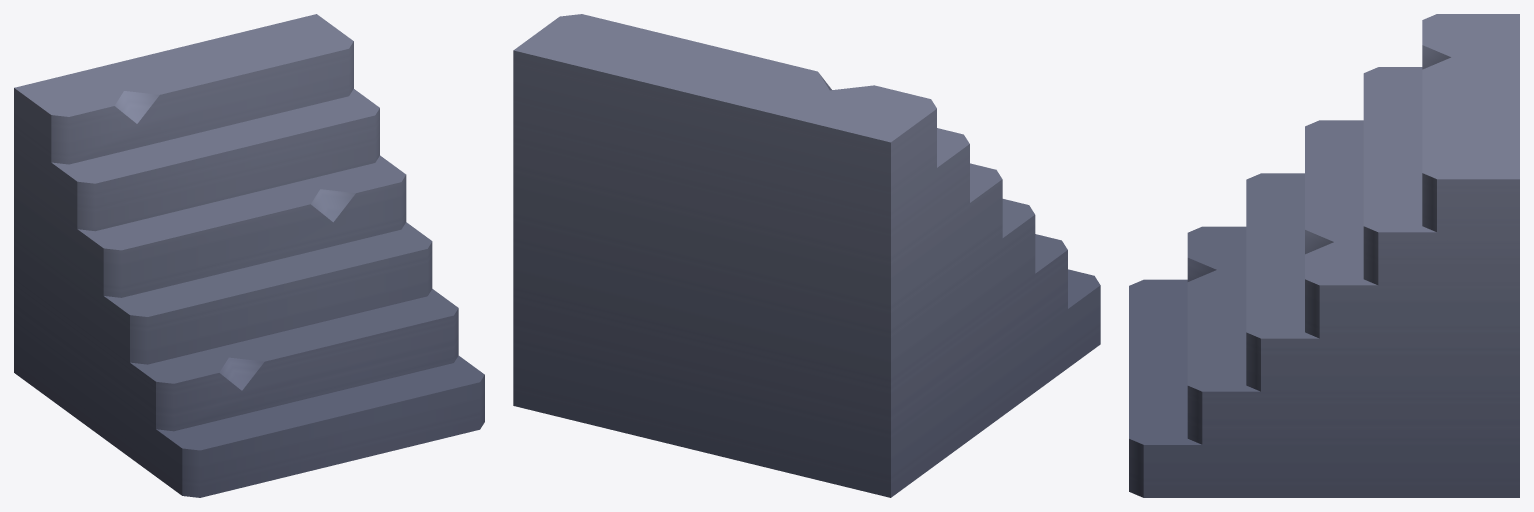
File: stairs.fbx
3 renders of one model, left to right at view 1: azimuth 30°, elevation 25°; view 2: azimuth 150°, elevation 25°; view 3: azimuth 270°, elevation 25°, orthographic. The views are drawn at different scales.
Parts seen in each view (by area): view 1: stairs; view 2: stairs; view 3: stairs.
Part boxes in pixels (bbox=[...]): stairs: bbox=[14, 14, 484, 497]; stairs: bbox=[513, 14, 1100, 497]; stairs: bbox=[1129, 14, 1519, 497].
Bounding box in the file's own units: 100 × 90 × 100.
